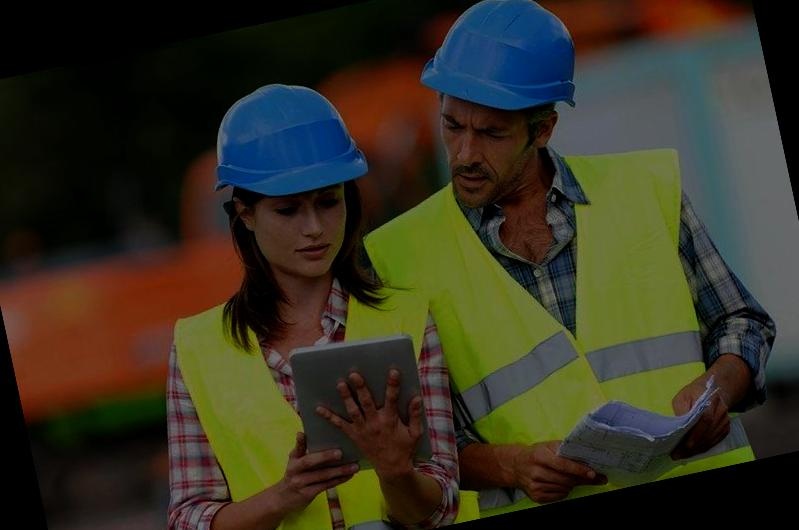helmet: (192, 62, 378, 218), (395, 0, 595, 144)
person: (338, 0, 743, 526), (84, 58, 472, 530)
